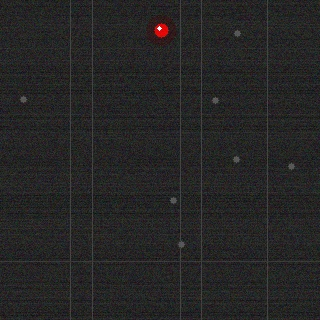red_fault: (152, 21, 170, 39)
